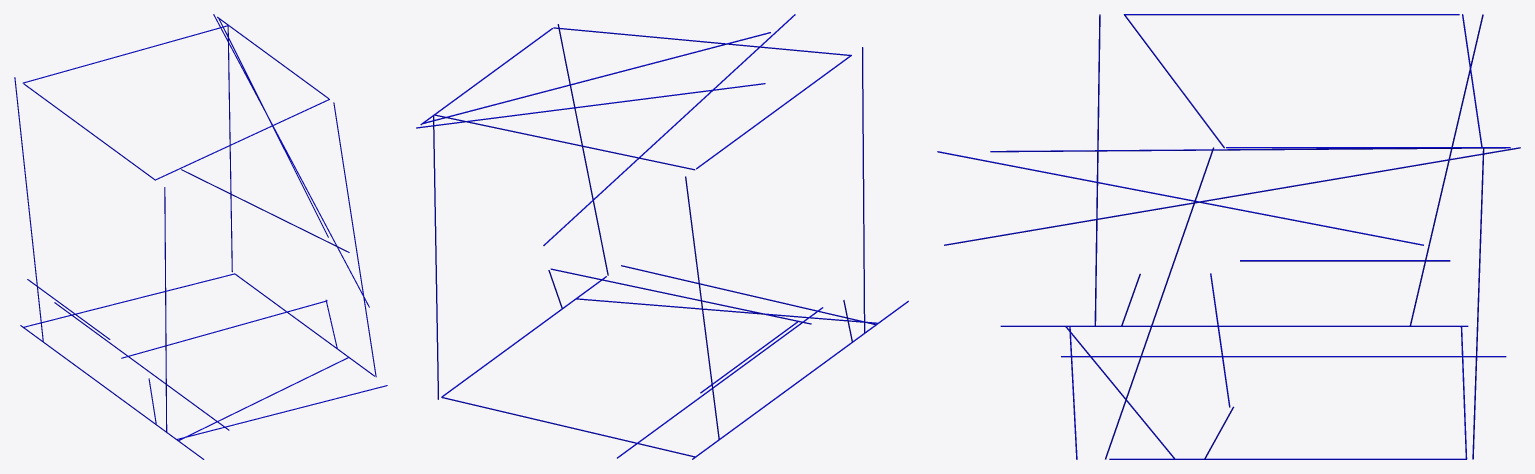
Rendered from corrected_3d_strokes.glb.
3 renders of one model, left to right at view 1: azimuth 30°, elevation 25°; view 2: azimuth 150°, elevation 25°; view 3: azimuth 270°, elevation 25°, orthographic. The views are drawn at different scales.
Visible parts, largest first — view 1: world; view 2: world; view 3: world.
Part boxes in pixels (<box>): world: <box>14,14,387,459</box>; world: <box>416,14,908,459</box>; world: <box>937,14,1520,459</box>.
Size of the model in its own units: 8.48 by 9.25 by 15.64.
